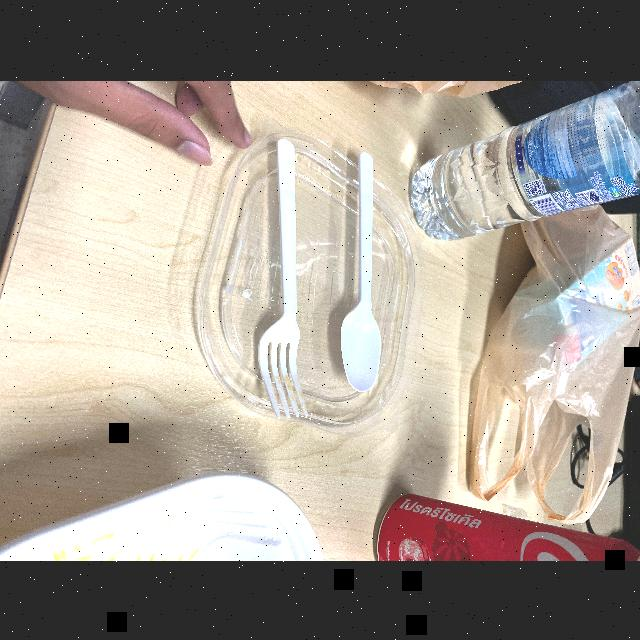plastic_cultery: (253, 130, 311, 440), (334, 144, 384, 396)
